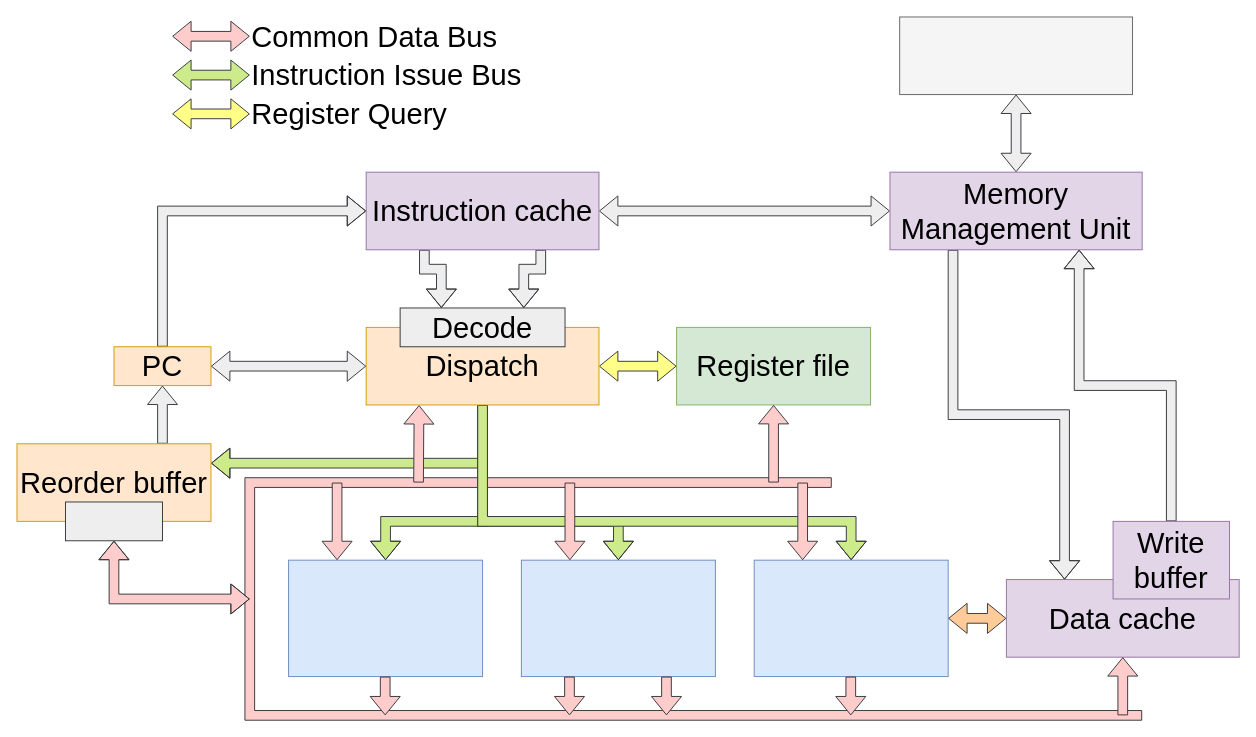
Some shapes in this 1256 by 737 pixel diagram are drawn without their labels. Here are the shapes that lost their labels. From the top down, the centre of each, then its label:
At pixel 1015 55: "RAM".
At pixel 113 521: "Arbiter".
At pixel 385 618: "Branch Combo".
At pixel 617 618: "ALU Combo".
At pixel 850 618: "Load/Store Combo".
